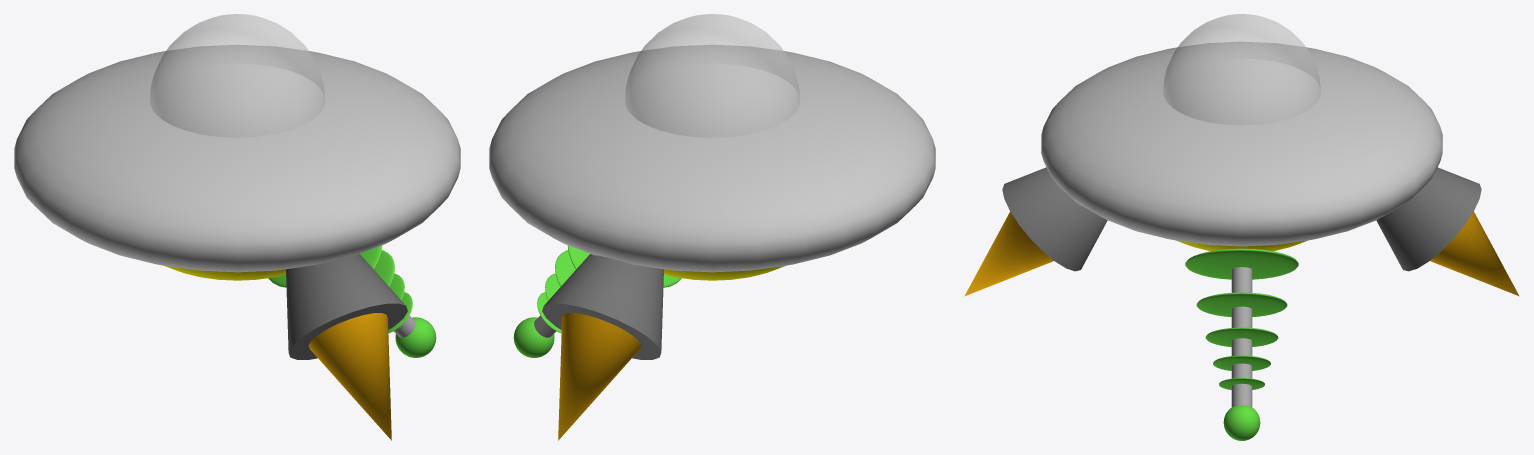
Rendered from ExportedFBXFile.fbx.
The picture shows the model from 3 angles, left to right: view 1: azimuth 30°, elevation 25°; view 2: azimuth 150°, elevation 25°; view 3: azimuth 270°, elevation 25°; orthographic projection. The views are drawn at different scales.
Visible parts, largest first — view 1: pSphere1, pSphere2, pCone1, pCone3, pSphere4, pSphere3, pSphere7; view 2: pSphere1, pSphere2, pCone2, pCone4, pSphere4, pSphere3, pSphere7; view 3: pSphere1, pSphere2, pCone2, pCone1, pCone3, pCone4, pSphere5, pCylinder1, pSphere6, pSphere4, pSphere7, pSphere8 (+1 smaller).
Boxes of the visible parts, x1,y1,x2,y2 form: pSphere1: (14, 45, 460, 272); pSphere2: (150, 14, 324, 137); pCone1: (286, 254, 407, 359); pCone3: (308, 313, 391, 440); pSphere4: (395, 317, 436, 357); pSphere3: (164, 265, 285, 280); pSphere7: (374, 250, 394, 286); pSphere1: (489, 45, 935, 272); pSphere2: (625, 14, 799, 137); pCone2: (542, 254, 663, 359); pCone4: (558, 313, 641, 440); pSphere4: (513, 317, 554, 357); pSphere3: (664, 265, 785, 280); pSphere7: (555, 250, 575, 286); pSphere1: (1041, 42, 1442, 246); pSphere2: (1163, 14, 1320, 124); pCone2: (1376, 167, 1481, 271); pCone1: (1002, 167, 1107, 271); pCone3: (964, 211, 1053, 296); pCone4: (1430, 211, 1519, 296); pSphere5: (1185, 248, 1298, 279); pCylinder1: (1231, 267, 1252, 406); pSphere6: (1196, 292, 1287, 316); pSphere4: (1223, 405, 1260, 440); pSphere7: (1205, 327, 1278, 346); pSphere8: (1213, 355, 1270, 370).
Size of the model in its own units: 9.63 by 8.9 by 13.19.
